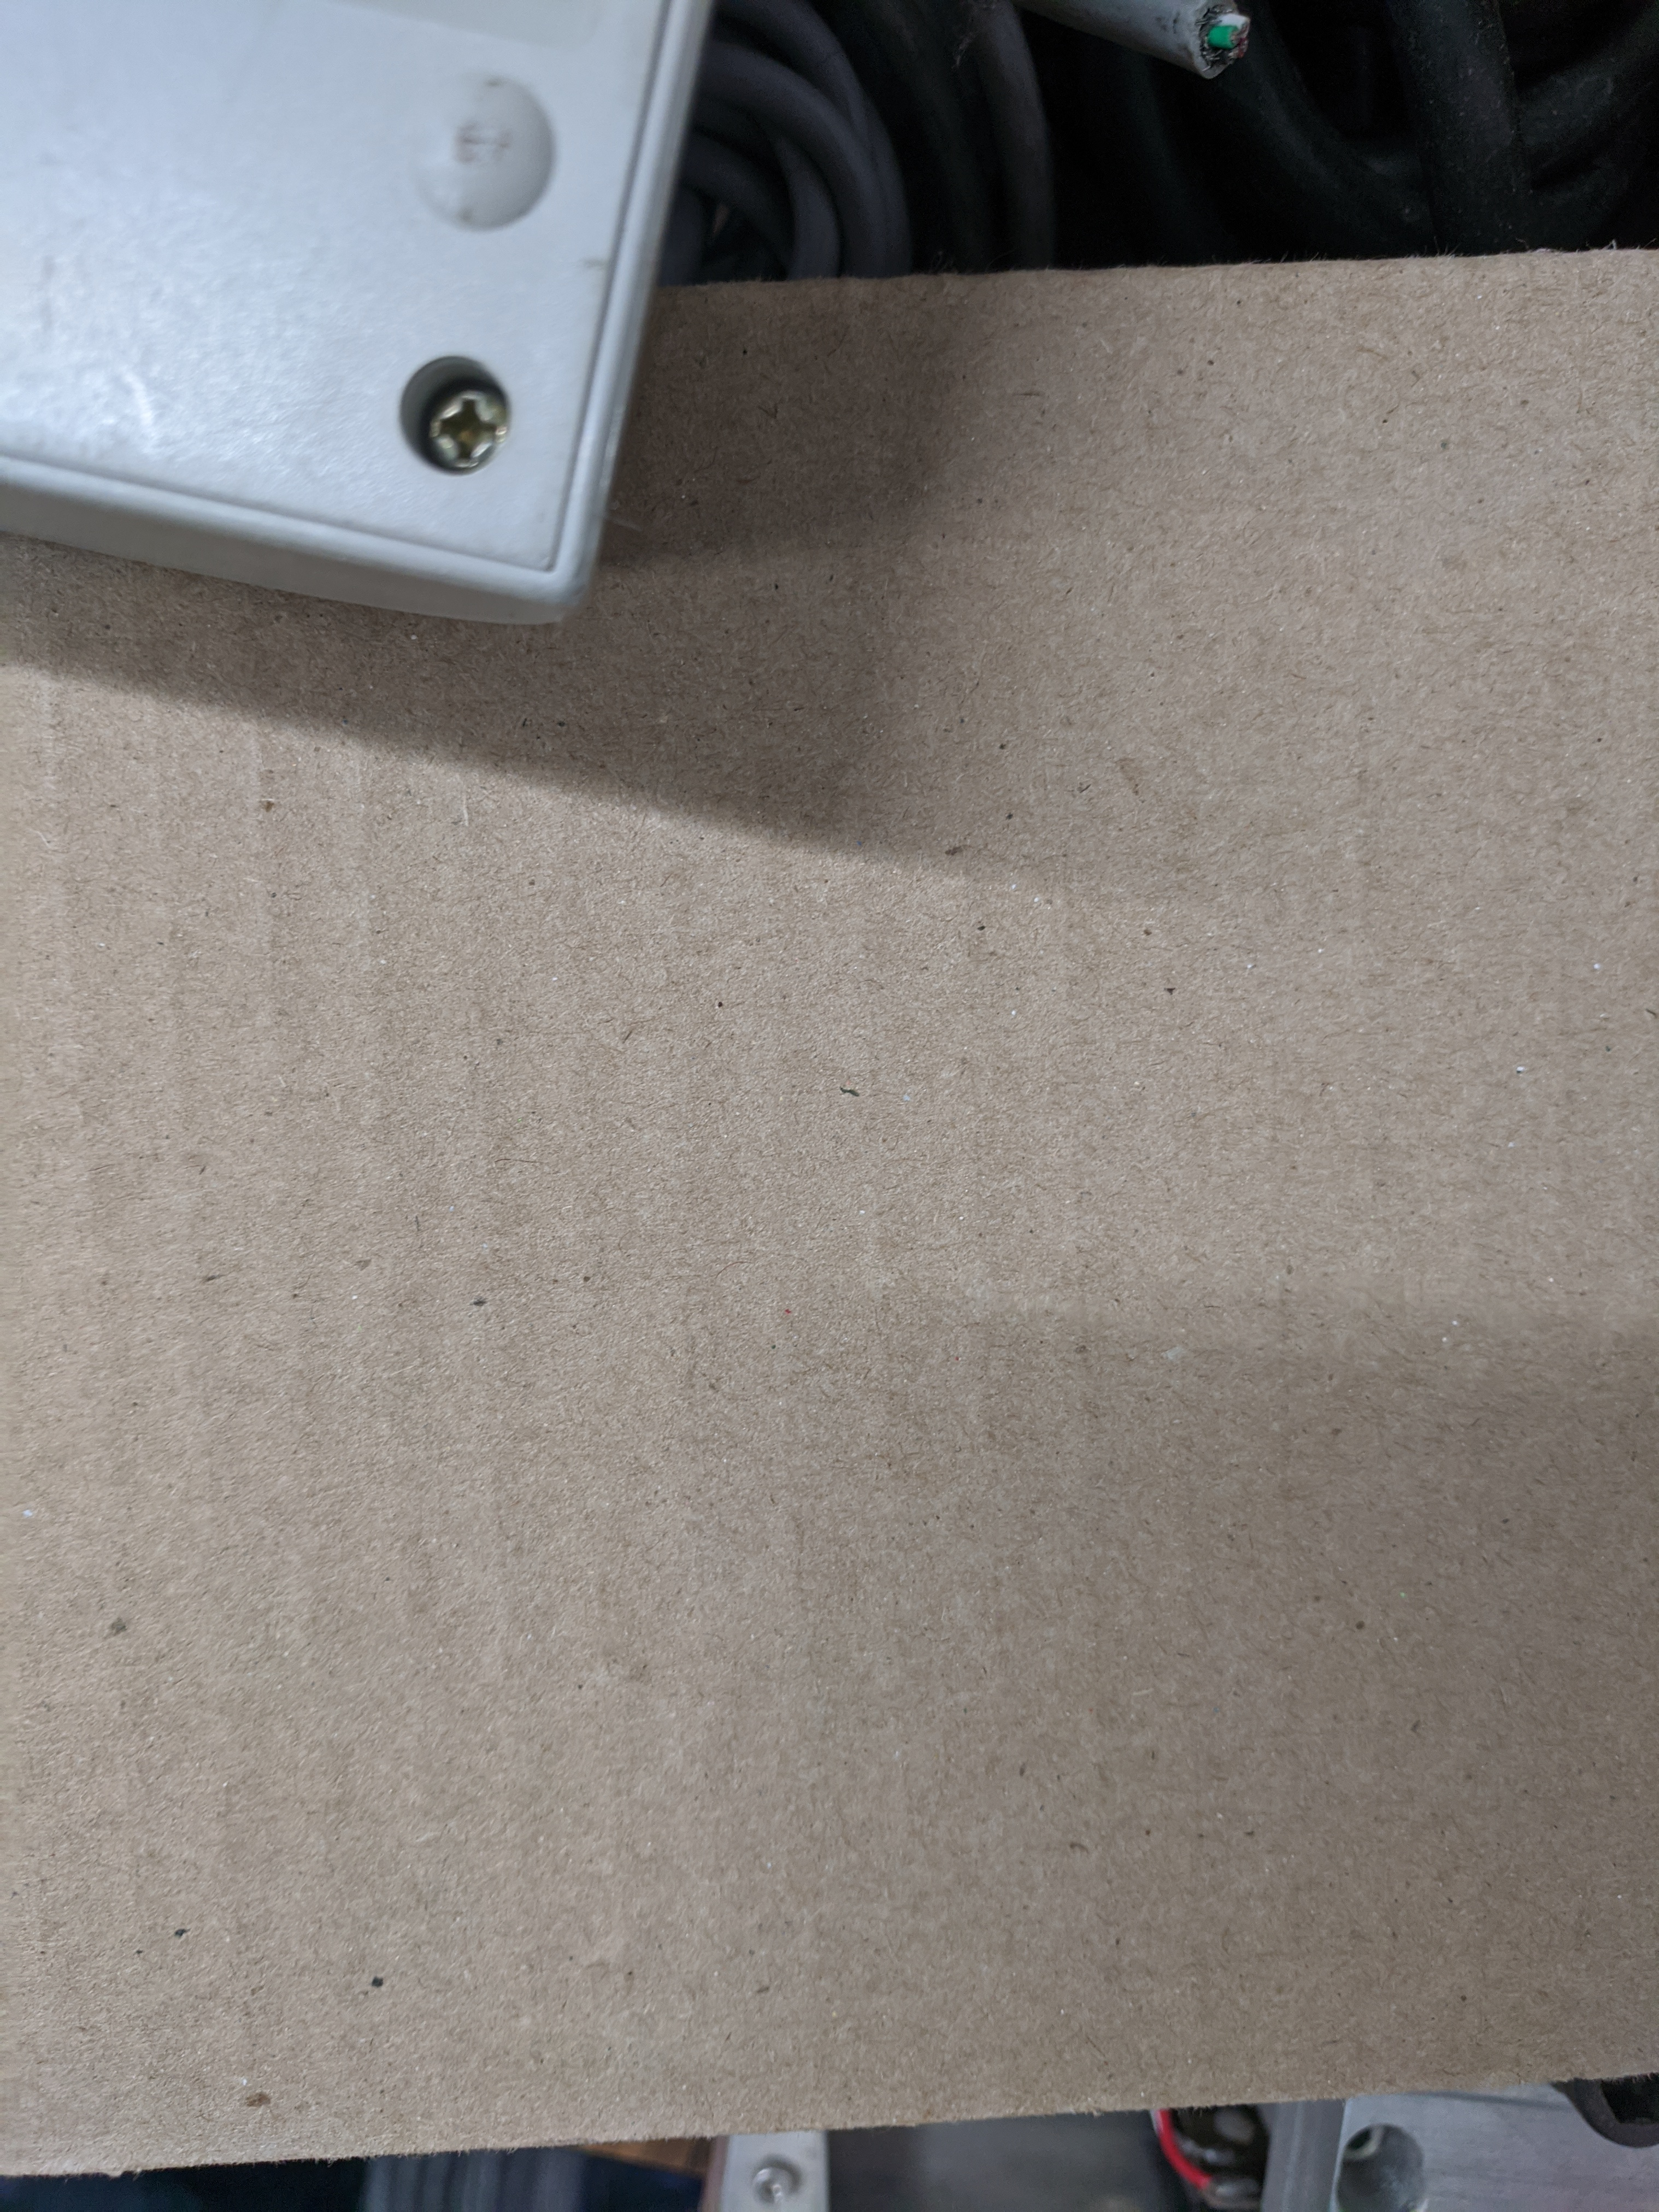cross_recessed_screw: (382, 347, 530, 482)
